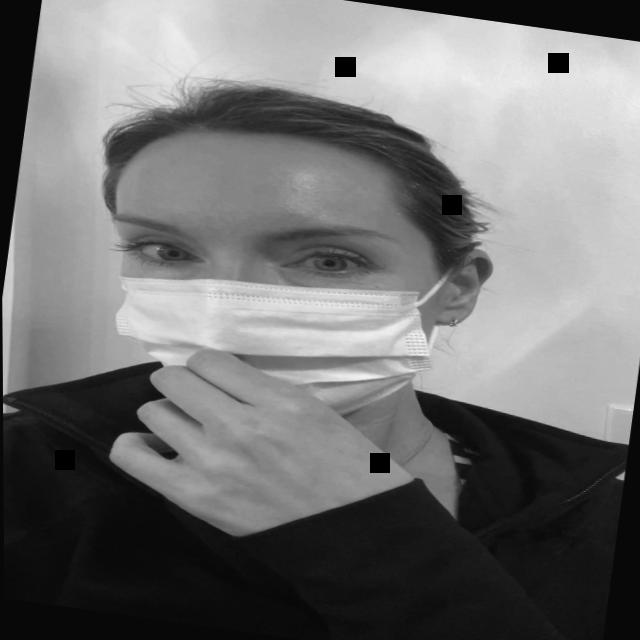Mask: (58, 90, 523, 452)
